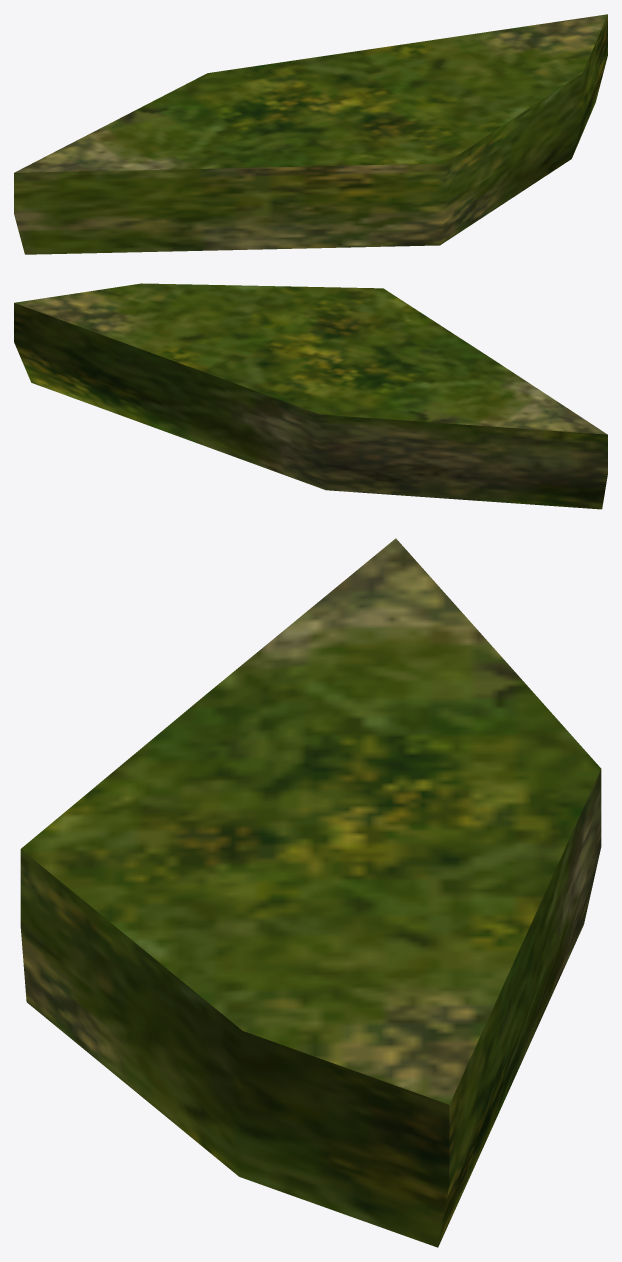
Rendered from ANIMATEDINSTANCES_ROOF_FALL_04__AI.fbx.
3 views of the same model, one above another, from view 1: azimuth 30°, elevation 25°; view 2: azimuth 150°, elevation 25°; view 3: azimuth 270°, elevation 25° (orthographic). The views are drawn at different scales.
Visible parts, largest first — view 1: ANIMATEDINSTANCES_ROOF_FALL_04__AI; view 2: ANIMATEDINSTANCES_ROOF_FALL_04__AI; view 3: ANIMATEDINSTANCES_ROOF_FALL_04__AI.
Part boxes in pixels (bbox=[...]): ANIMATEDINSTANCES_ROOF_FALL_04__AI: bbox=[14, 14, 607, 254]; ANIMATEDINSTANCES_ROOF_FALL_04__AI: bbox=[14, 283, 607, 509]; ANIMATEDINSTANCES_ROOF_FALL_04__AI: bbox=[20, 538, 601, 1247].
Size of the model in its own units: 19347 by 2500 by 8376.
1 material, 1 textured.
